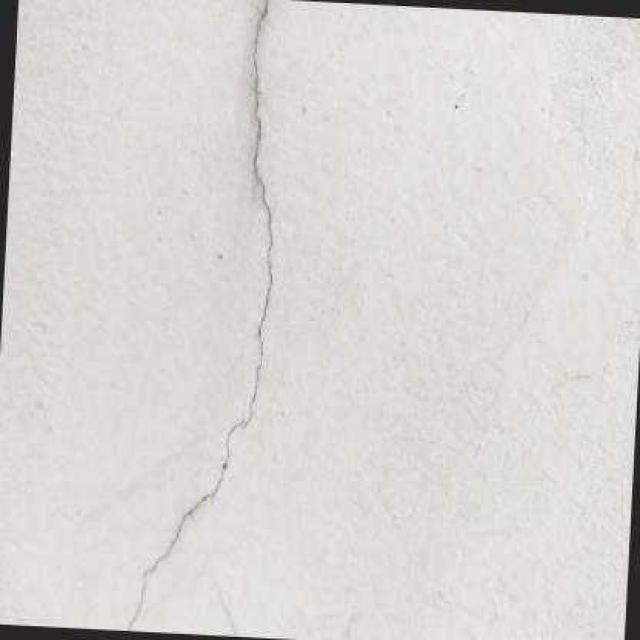D00: (120, 0, 271, 630)
